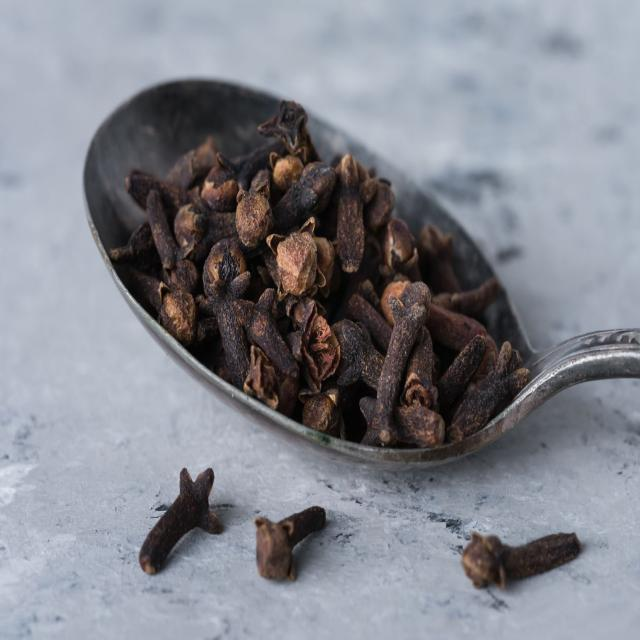clove: (109, 101, 530, 449)
